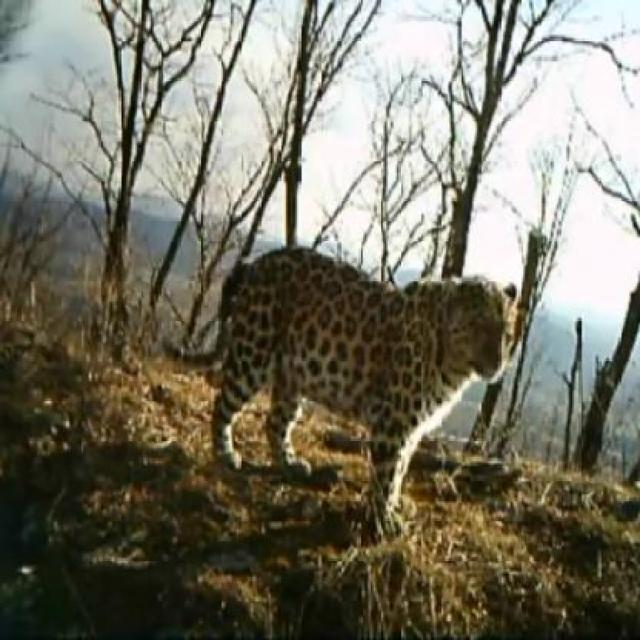Leopard: (205, 217, 510, 523)
